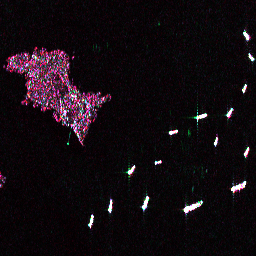ship: (181, 198, 206, 215), (228, 178, 249, 194), (139, 194, 151, 211), (240, 29, 252, 43), (224, 105, 236, 118), (125, 163, 138, 175), (194, 111, 208, 121), (242, 145, 252, 159), (239, 81, 249, 95), (106, 197, 114, 214), (86, 213, 95, 228), (166, 127, 180, 136), (212, 135, 221, 149), (246, 50, 255, 63), (152, 158, 163, 166)
